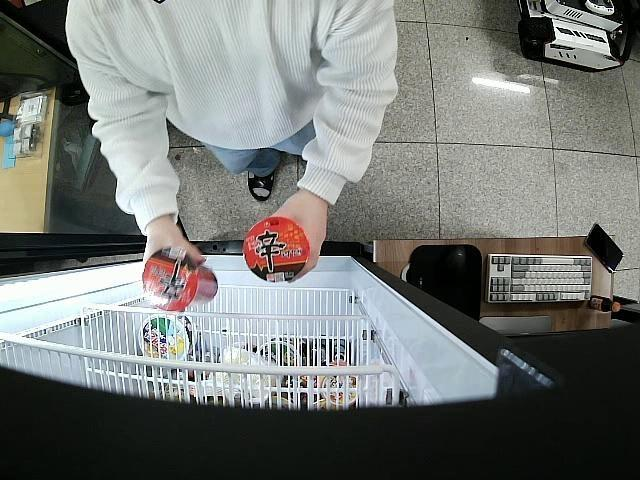02_shinRamen_S: (141, 248, 218, 309), (243, 216, 311, 285)
